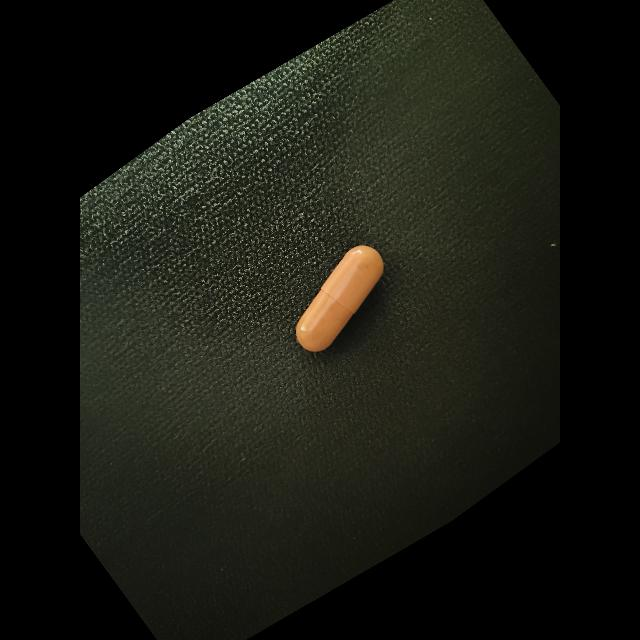Intact Capsule: (296, 245, 383, 351)
